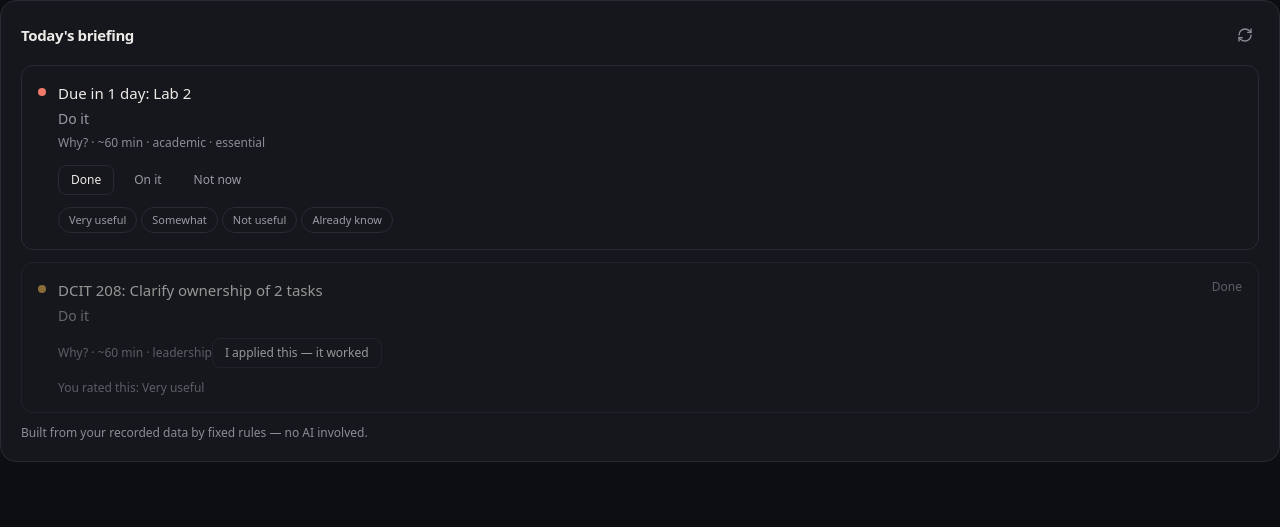
Scenario: BriefingPanel › shows reasoning with evidence and records lifecycle and feedback separately
Later steps or results of the test are not shown.
Expected: the text "Due in 1 day: Lab 2" is shown, x1=58 y1=82 x2=191 y2=104
Step 1. Click the button "Why? · ~60 min · academic · essential" → [162, 142], box x1=58 y1=134 x2=265 y2=150
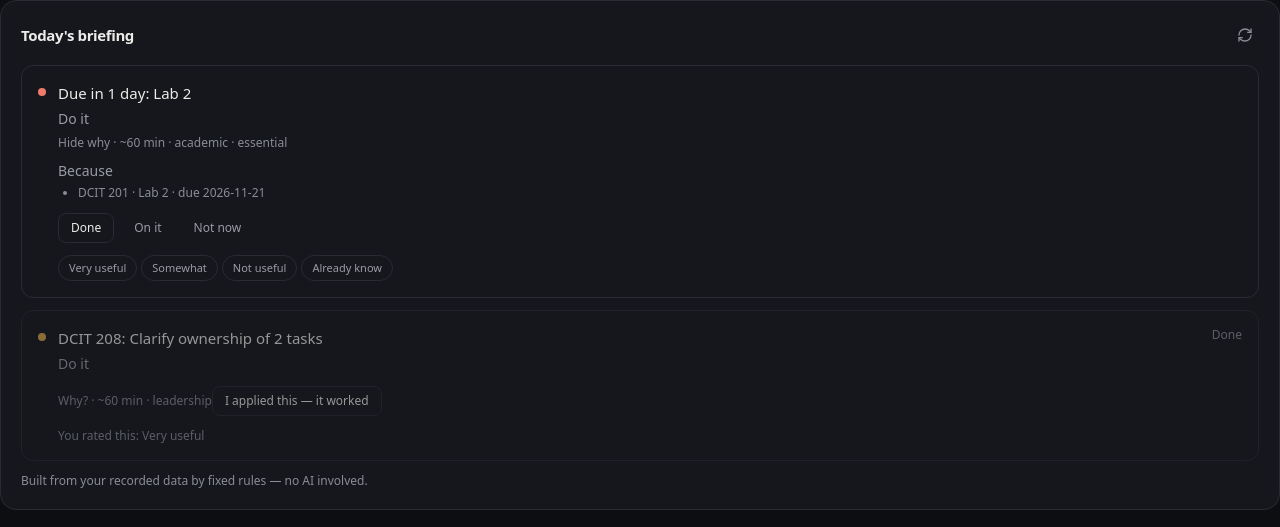
Now the list item "DCIT 201 · Lab 2 · due 2026-11-21" is shown, box x1=78 y1=184 x2=265 y2=200
